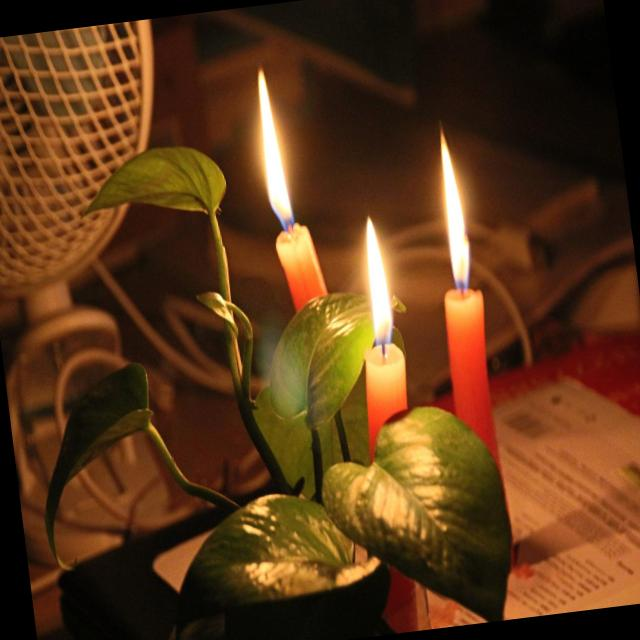Fire_Save: (421, 126, 506, 456), (244, 65, 331, 308), (339, 211, 418, 465)
